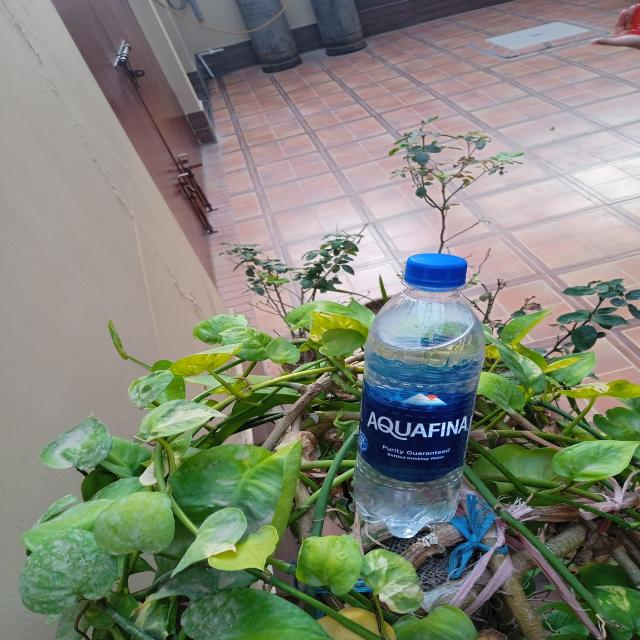Plastic: (355, 256, 488, 538)
